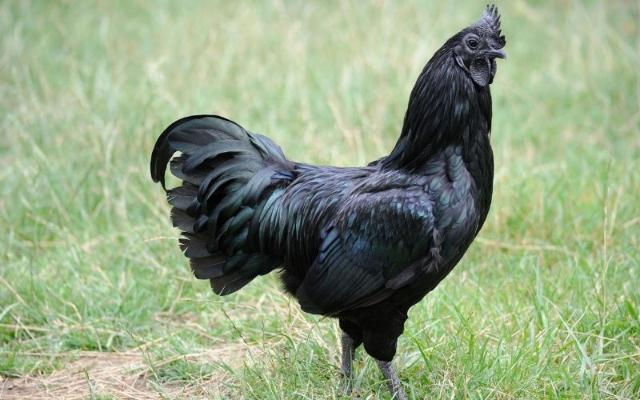Chicken: (150, 3, 506, 400)
